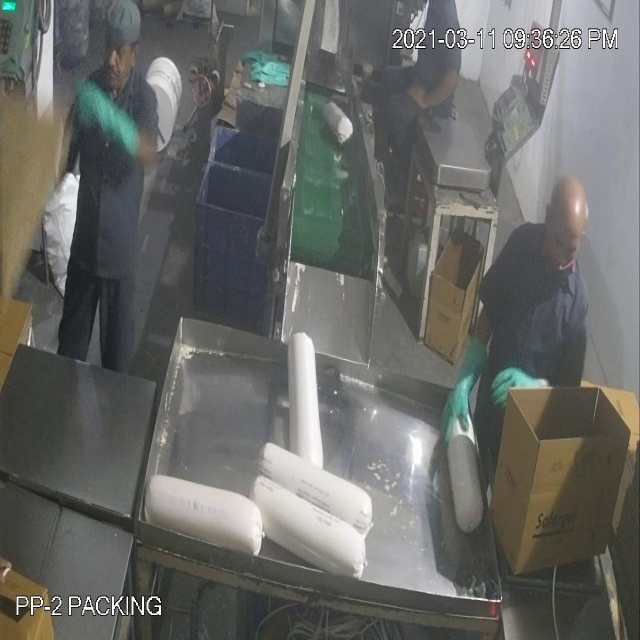Guantes: (77, 62, 146, 183), (427, 315, 487, 444)
Sin_guantes: (408, 64, 470, 123)
